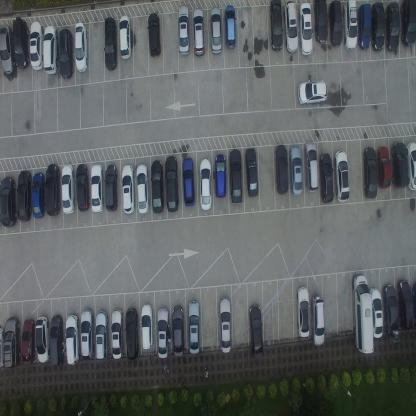car: (352, 272, 374, 354), (12, 17, 30, 70), (3, 315, 20, 369), (44, 163, 61, 216), (0, 175, 17, 228), (382, 284, 399, 337), (164, 154, 179, 213), (397, 279, 414, 330), (283, 0, 299, 53), (124, 308, 140, 361), (218, 296, 233, 352), (0, 23, 16, 75), (65, 314, 81, 366), (49, 313, 64, 368), (229, 146, 243, 204), (248, 304, 263, 358), (334, 149, 349, 202), (58, 27, 73, 80), (312, 296, 327, 348), (16, 170, 31, 222), (298, 79, 328, 105), (268, 0, 283, 52), (304, 141, 319, 192), (319, 152, 334, 203), (385, 1, 400, 52), (363, 146, 377, 200), (299, 2, 313, 56), (120, 164, 135, 214), (43, 24, 58, 74), (328, 0, 343, 50), (104, 17, 118, 70), (343, 0, 357, 53), (275, 144, 289, 196), (61, 163, 75, 215), (368, 286, 382, 338), (74, 22, 88, 74), (371, 0, 385, 52), (156, 307, 170, 359), (80, 308, 94, 360), (75, 163, 90, 211), (392, 142, 408, 187), (35, 316, 50, 364), (150, 159, 163, 214), (244, 146, 258, 197), (90, 163, 104, 214), (95, 310, 109, 361), (298, 285, 311, 339), (104, 163, 118, 213), (21, 317, 35, 367), (199, 158, 212, 211), (182, 156, 195, 208), (136, 163, 149, 215), (289, 144, 302, 196), (30, 20, 43, 72), (111, 308, 124, 360), (148, 10, 162, 58), (140, 303, 154, 351), (177, 5, 190, 56), (31, 172, 45, 219), (358, 3, 372, 50), (402, 0, 416, 47), (188, 300, 200, 354), (314, 0, 328, 46), (192, 8, 205, 57), (172, 304, 184, 356), (214, 152, 227, 198), (377, 146, 391, 188), (210, 6, 222, 55), (405, 141, 416, 192), (119, 15, 131, 60), (224, 4, 236, 49), (0, 325, 5, 368)
